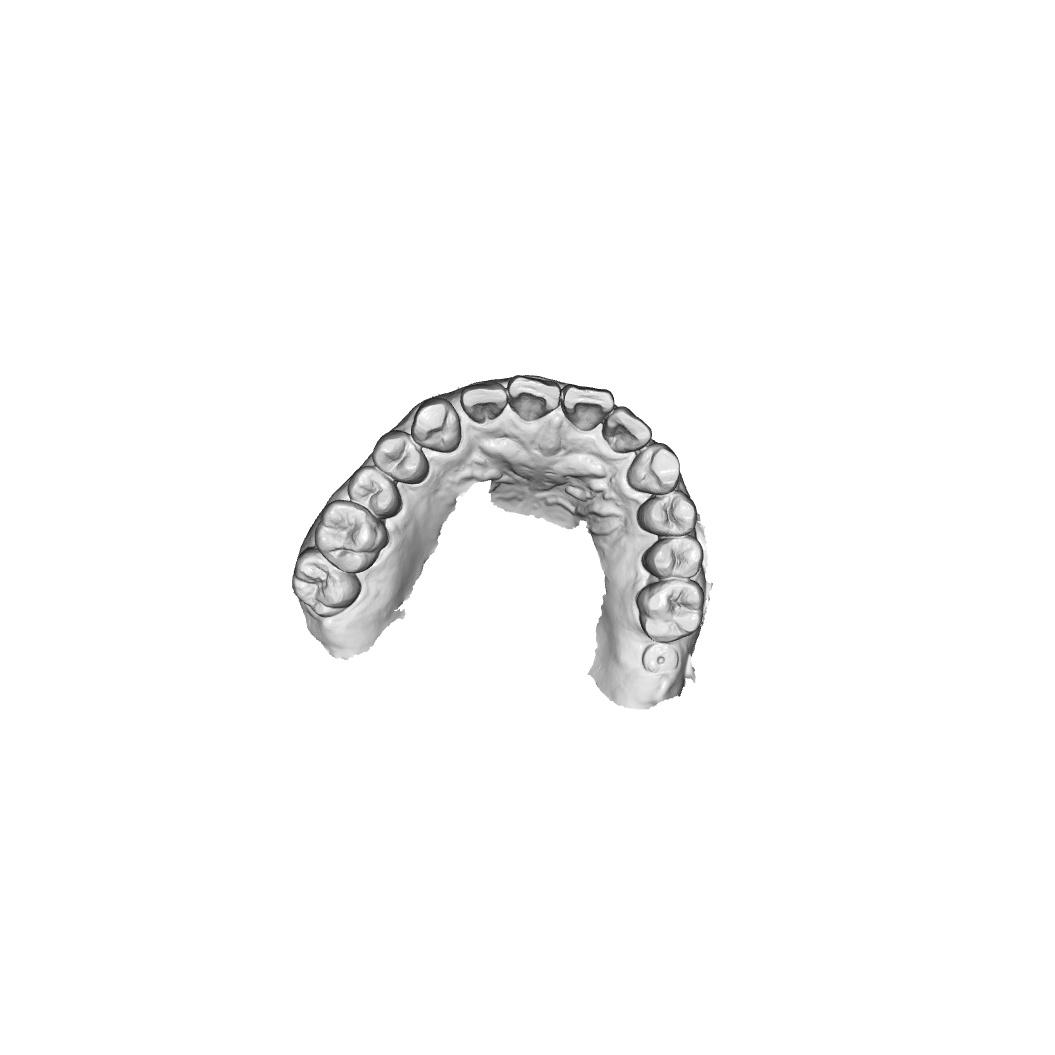canine: (409, 396, 462, 453), (626, 442, 681, 496)
implant: (641, 642, 680, 676)
incisor: (560, 382, 616, 434), (507, 374, 561, 422), (602, 406, 653, 455), (460, 380, 509, 424)
molar: (314, 499, 389, 574), (290, 545, 362, 619), (636, 579, 706, 643)
premolar: (371, 429, 430, 486), (347, 465, 403, 520), (635, 489, 698, 537), (640, 535, 704, 580)
